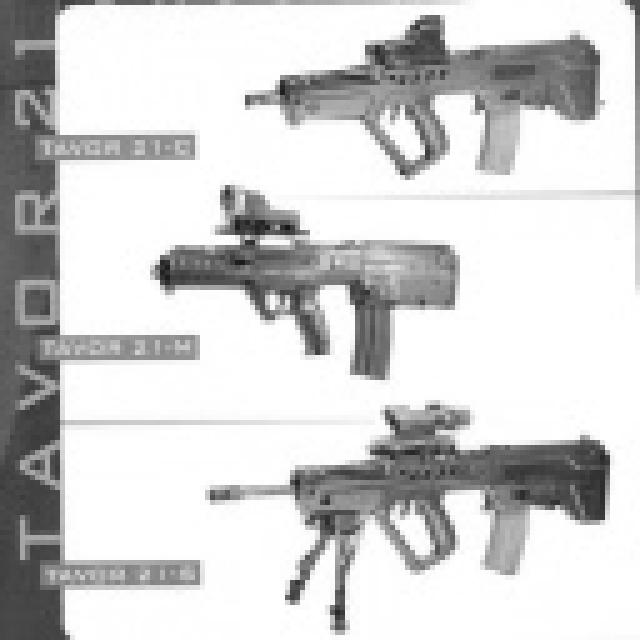Rifle: (179, 370, 630, 640), (139, 160, 478, 410), (224, 0, 611, 185)
